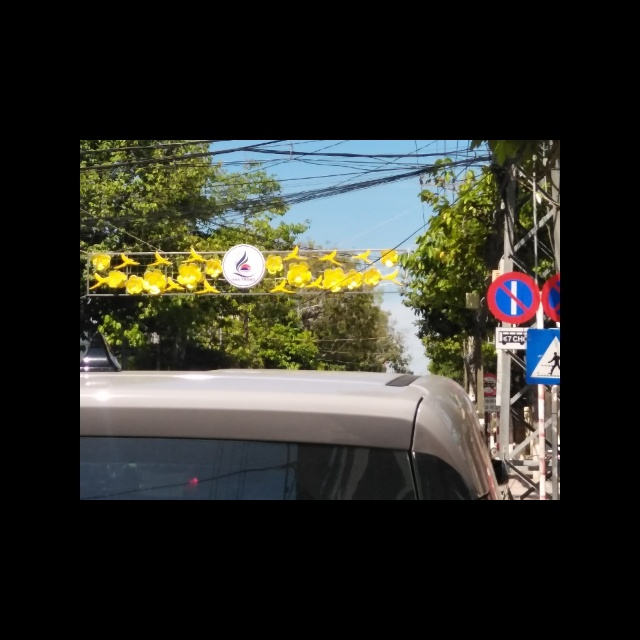Cấm đỗ xe ngày lẻ: (486, 272, 539, 324)
Đường dành cho người đi bộ: (524, 327, 560, 387)
